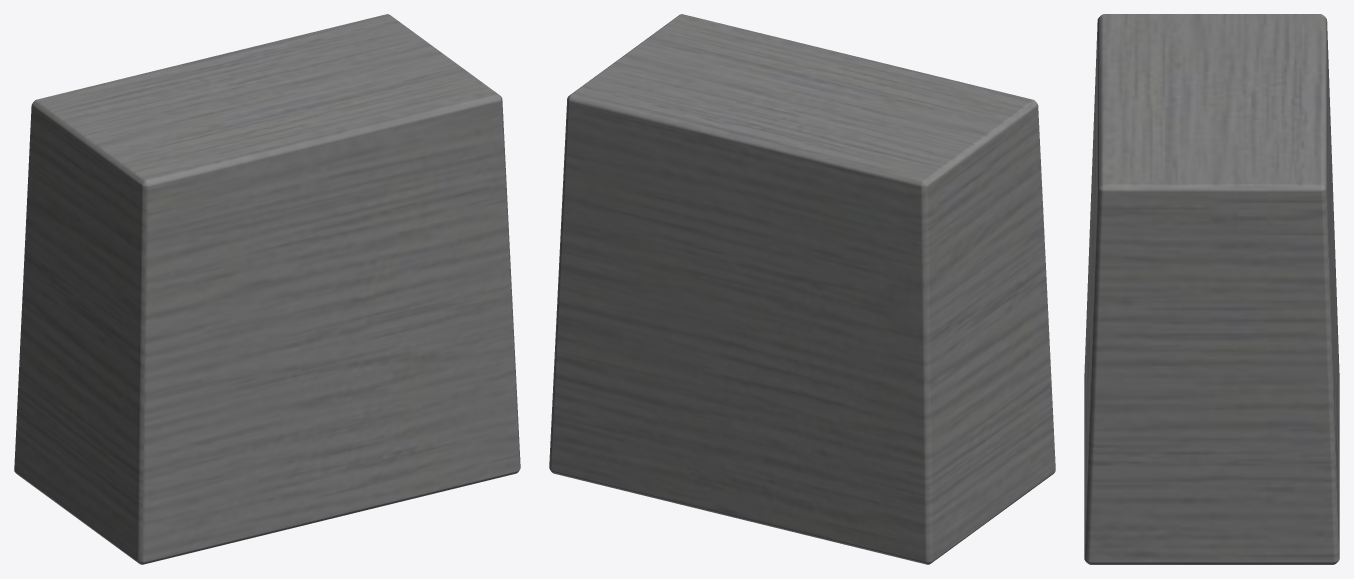
Rendered from slantedWallBlock.obj.
3 views of the same model, side by side, from view 1: azimuth 30°, elevation 25°; view 2: azimuth 150°, elevation 25°; view 3: azimuth 270°, elevation 25° (orthographic).
Parts seen in each view (by area): view 1: pCube1; view 2: pCube1; view 3: pCube1.
Part boxes in pixels (box(x1,y1,x2,y2)): pCube1: box(14, 14, 520, 564); pCube1: box(549, 14, 1055, 564); pCube1: box(1084, 14, 1339, 564).
Size of the model in its own units: 106 by 100 by 61.67.
Materials: 1 (1 with a texture image).
